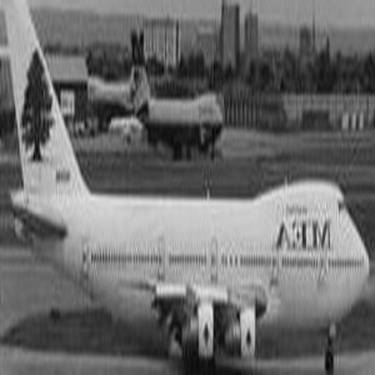airplane: (7, 2, 368, 369), (108, 63, 230, 170)
